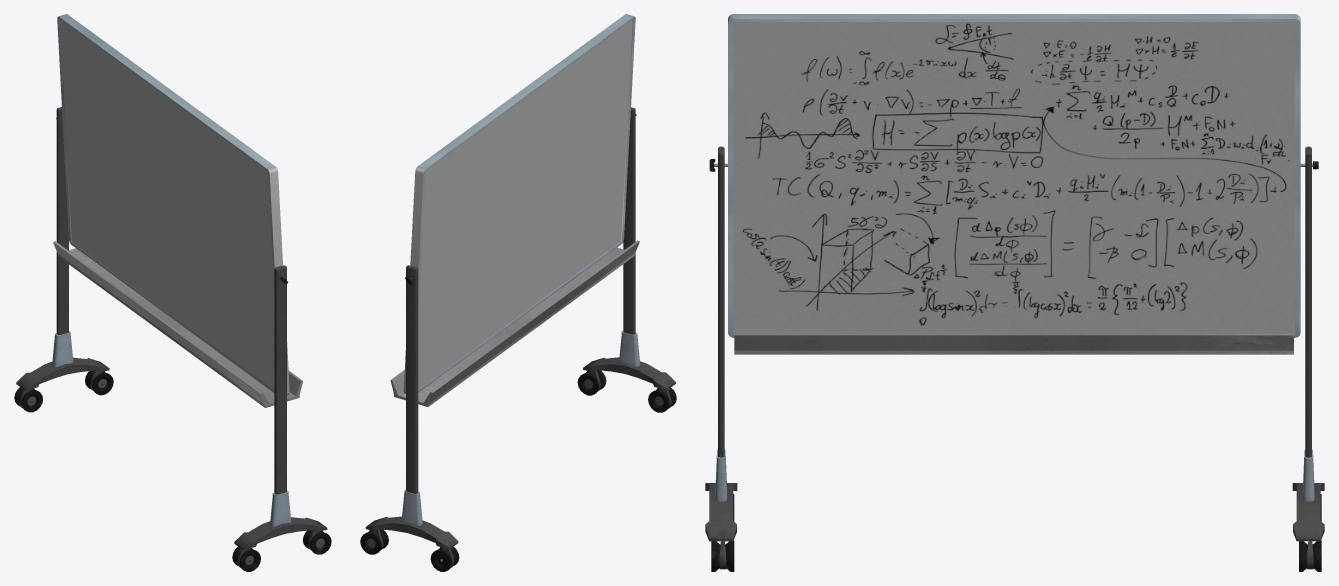
3 views of the same model, side by side, from view 1: azimuth 30°, elevation 25°; view 2: azimuth 150°, elevation 25°; view 3: azimuth 270°, elevation 25° (orthographic). The views are drawn at different scales.
Parts seen in each view (by area): view 1: main board; view 2: main board; view 3: main board.
Boxes of the visible parts, x1,y1,x2,y2 form: main board: (14, 14, 331, 571); main board: (360, 14, 676, 571); main board: (705, 14, 1324, 571).
Size of the model in its own units: 202 by 830 by 884.
1 material, 1 textured.
